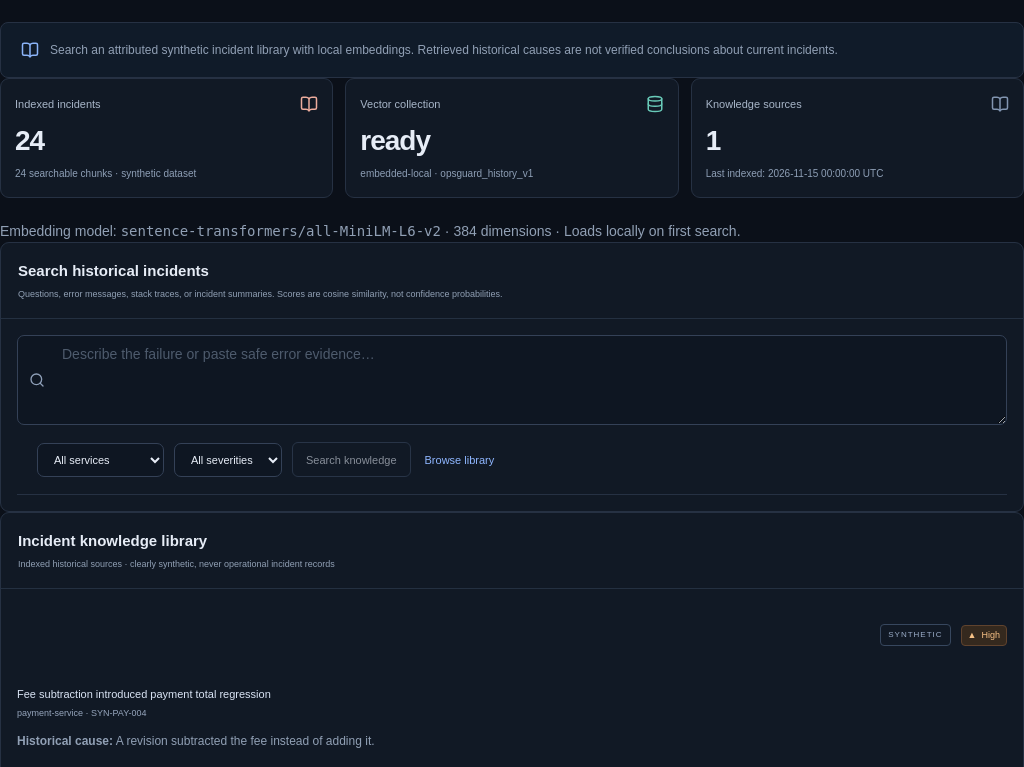
Test: renders actual API status and full synthetic historical details
The width and height of the screenshot is (1024, 767).
Click the button with class "incident-link": (144, 694) [17,686,1007,720]
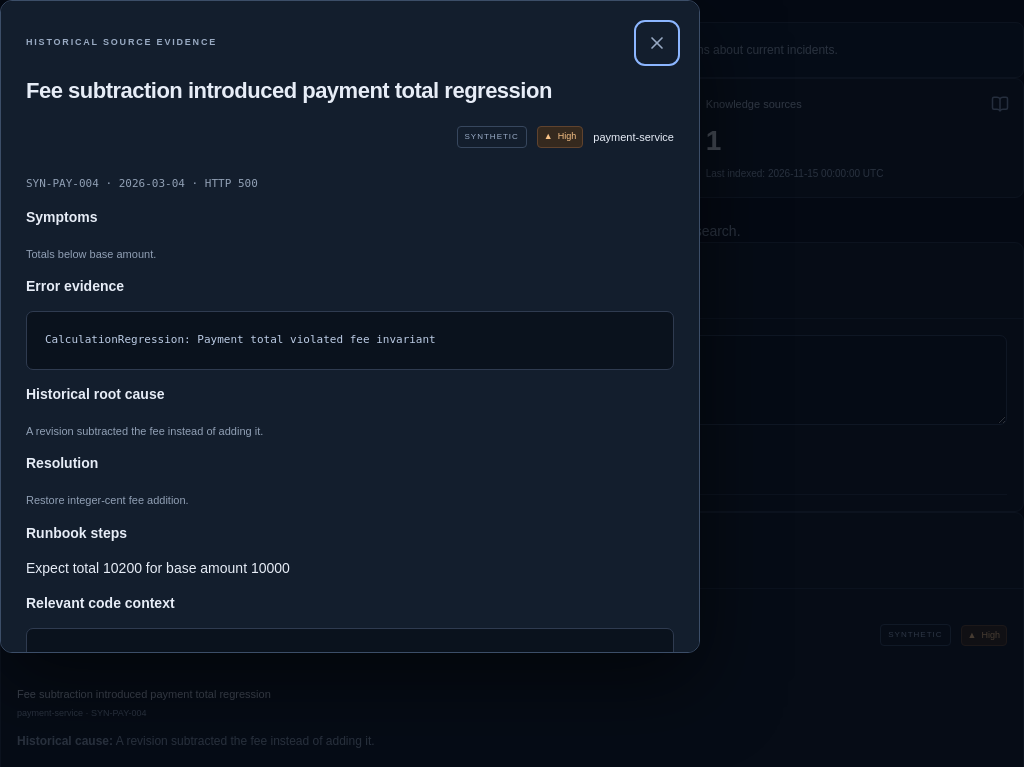
Expected: the text "Expect total 10200" is shown, [26,560,290,576]
